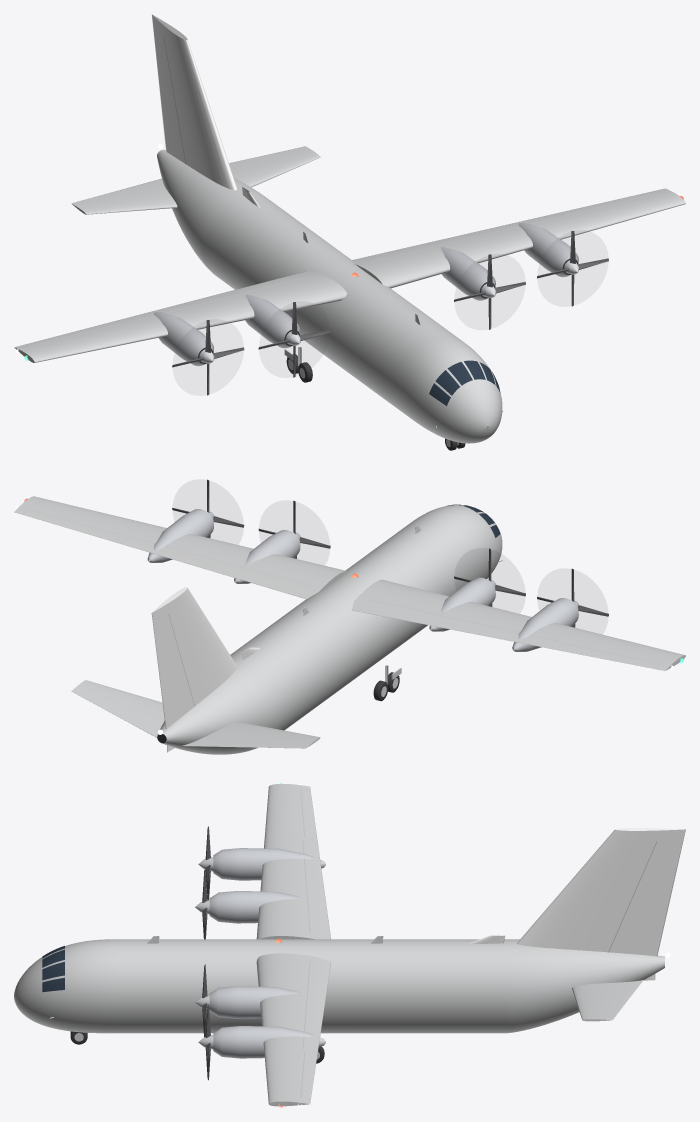
File: DHC7.glb
The picture shows the model from 3 angles, top to bottom: view 1: azimuth 30°, elevation 25°; view 2: azimuth 150°, elevation 25°; view 3: azimuth 270°, elevation 25°; orthographic projection.
Visible parts, largest first — view 1: airframe, gear; view 2: airframe, gear; view 3: airframe.
Part boxes in pixels (x1,y1,x2,y2): airframe: [14, 14, 685, 443]; gear: [284, 347, 465, 450]; airframe: [14, 496, 685, 754]; gear: [373, 665, 401, 701]; airframe: [14, 783, 685, 1107].
Bounding box in the file's own units: 28.72 × 8.85 × 25.39.
